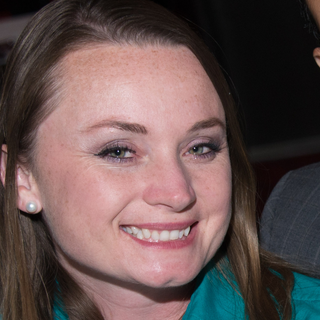eye: (86, 136, 143, 166), (176, 134, 224, 164)
